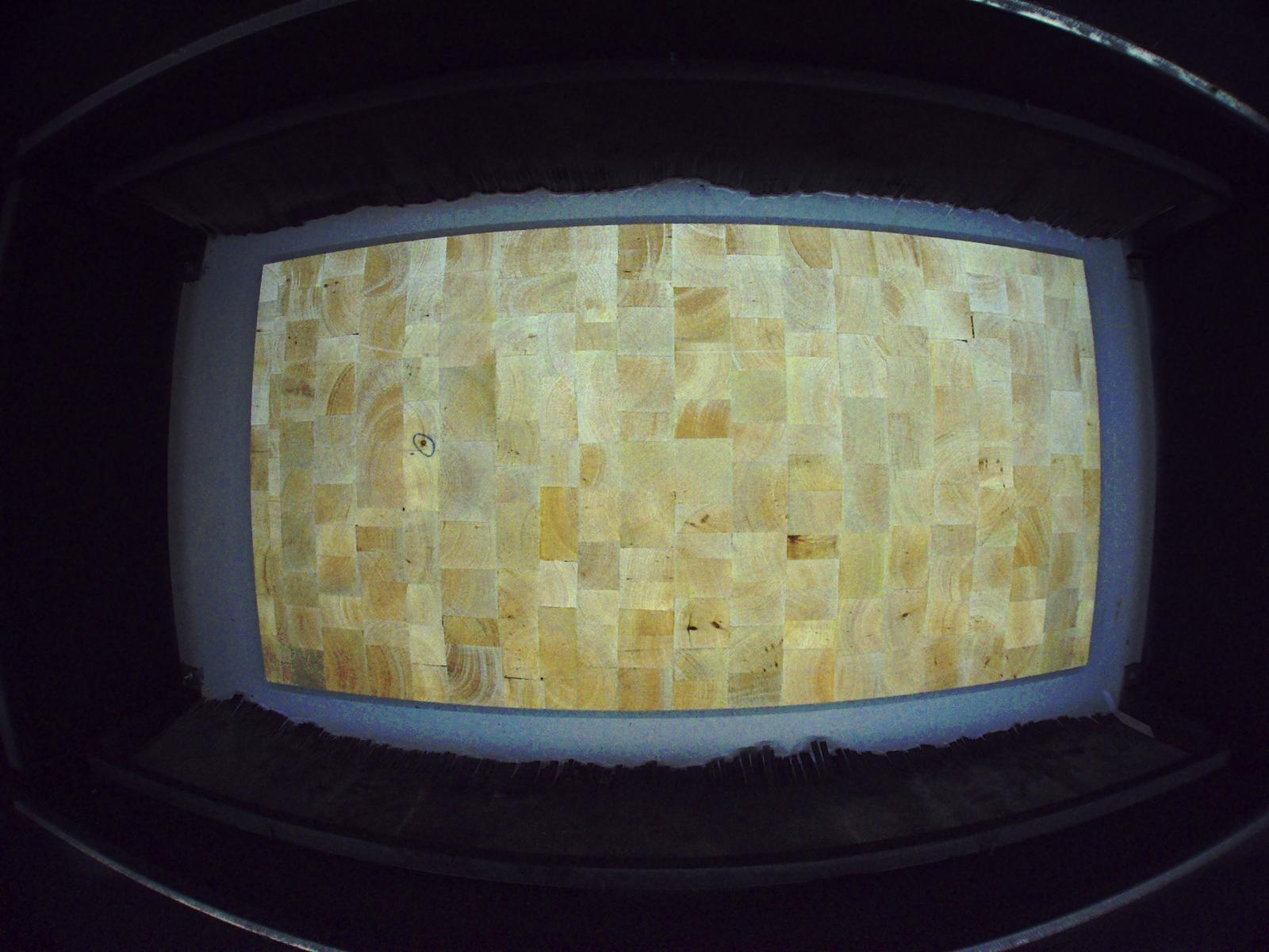nudillo: (419, 437, 429, 450)
sheck_ecuatoriano: (686, 603, 700, 648)
